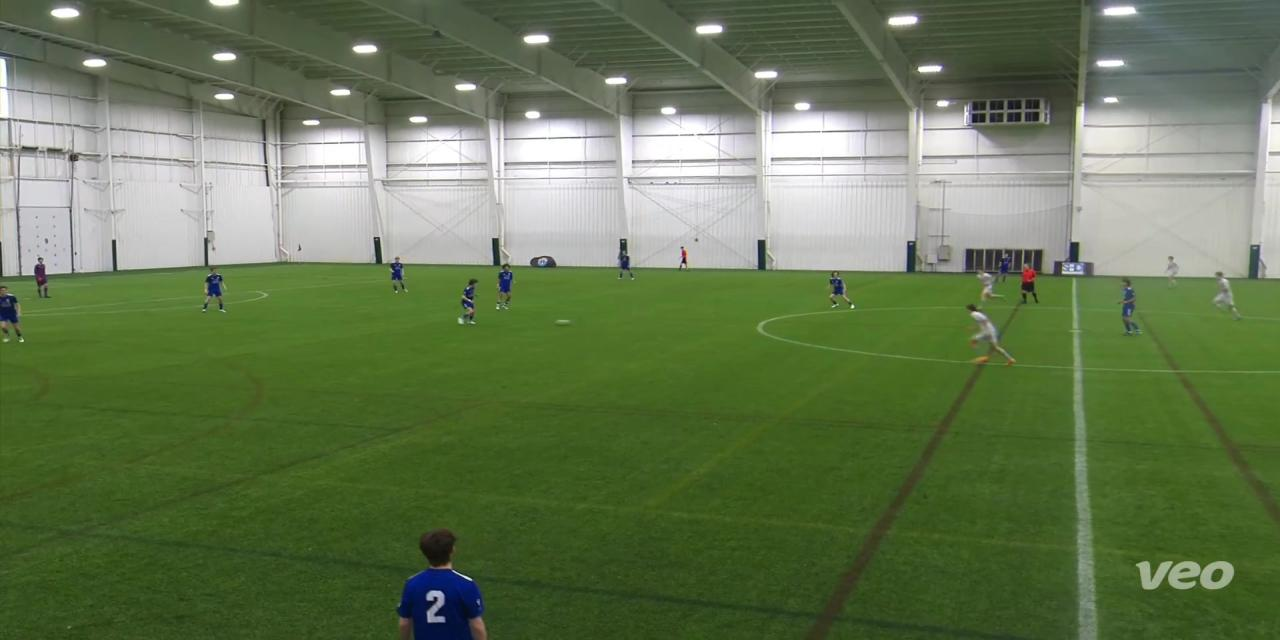sports ball: (554, 312, 576, 331)
